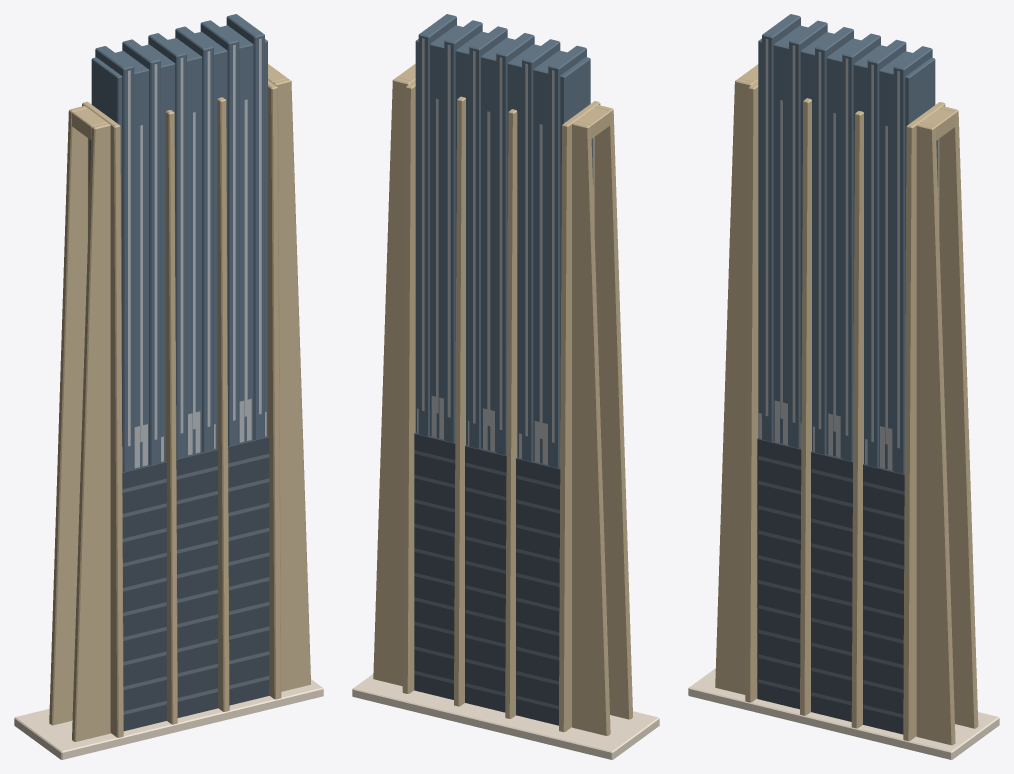
The model's file is dubai-index-tower.glb.
The picture shows the model from 3 angles, left to right: view 1: azimuth 30°, elevation 25°; view 2: azimuth 150°, elevation 25°; view 3: azimuth 330°, elevation 25°; orthographic projection.
Visible parts, largest first — view 1: The Index; view 2: The Index; view 3: The Index.
Boxes of the visible parts, left/top/right/bottom form: The Index: left=14, top=14, right=323, bottom=759; The Index: left=352, top=14, right=659, bottom=759; The Index: left=688, top=14, right=999, bottom=759.
Bounding box in the file's own units: 134 × 326 × 42.2.
